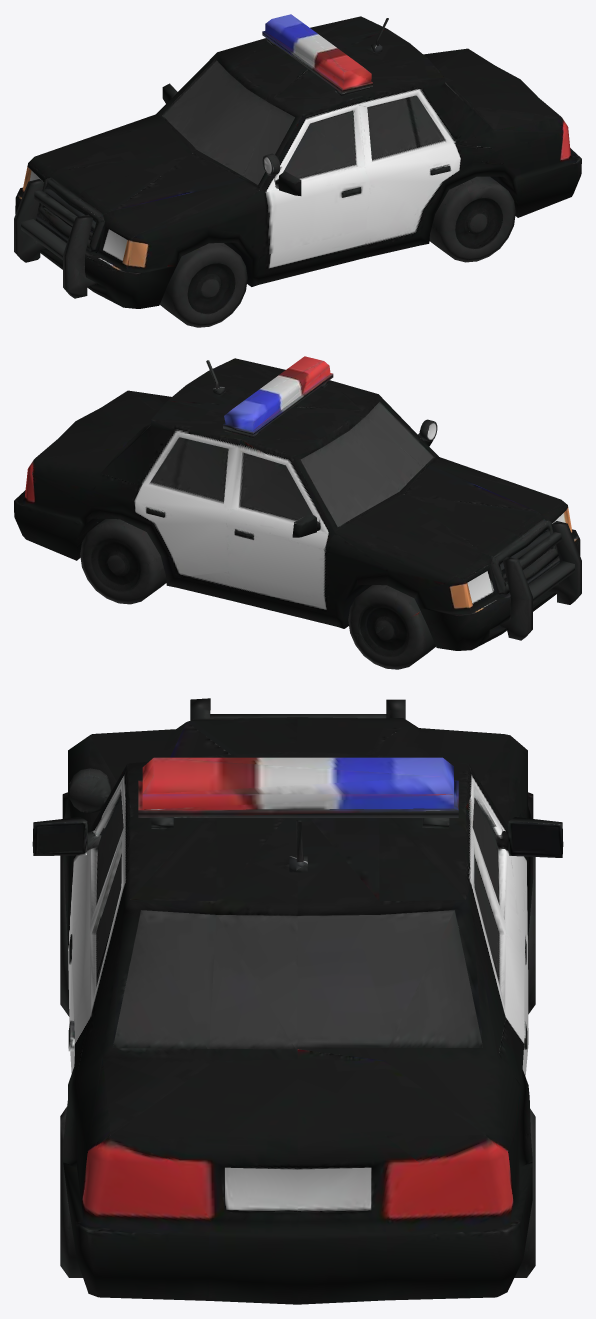
File: police-cruiser.glb
3 renders of one model, top to bottom at view 1: azimuth 30°, elevation 25°; view 2: azimuth 150°, elevation 25°; view 3: azimuth 270°, elevation 25°, orthographic. The views are drawn at different scales.
Bounding box in the file's own units: 0.9536 × 0.3833 × 0.4409.
Materials: 1 (1 with a texture image).
